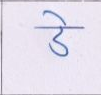e_matra: (43, 10, 70, 25)
